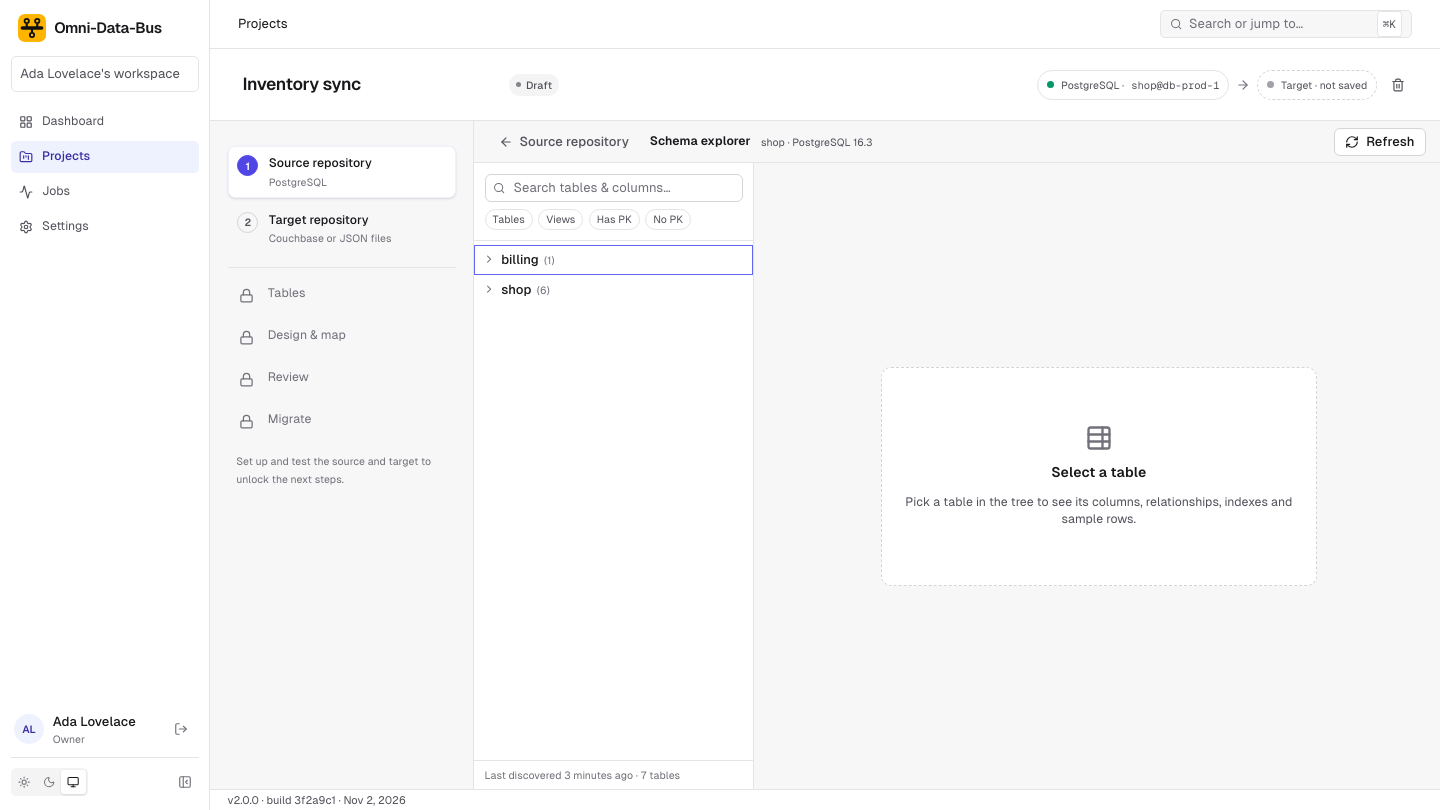
it: SchemaExplorerPage › selecting in the tree opens the table; a missing selection falls back to the picker
Expected: the heading "Select a table" is shown, [1051,462,1146,483]
Expected: the text "Last discovered 3 minutes ago · 7 tables" is shown, [474,760,753,789]
What coordinates should you click on to do the following:
click the list item "shop (6)"
I would click on:
 (516, 289)
Its box is [482,282,550,296].
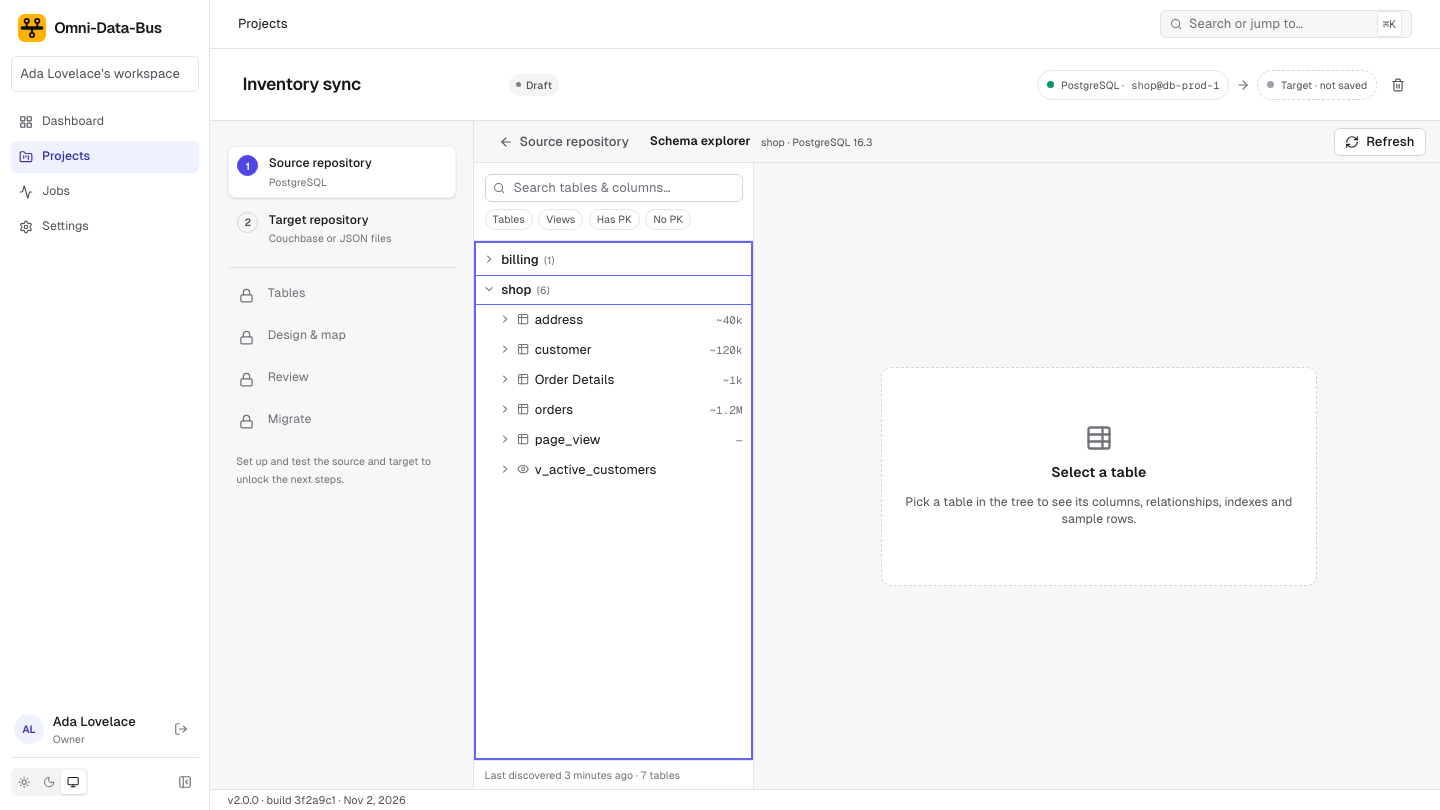
What coordinates should you click on to do the following:
click the list item "orders ~1.2M"
I would click on:
 (554, 409)
Its box is [498,402,742,416].
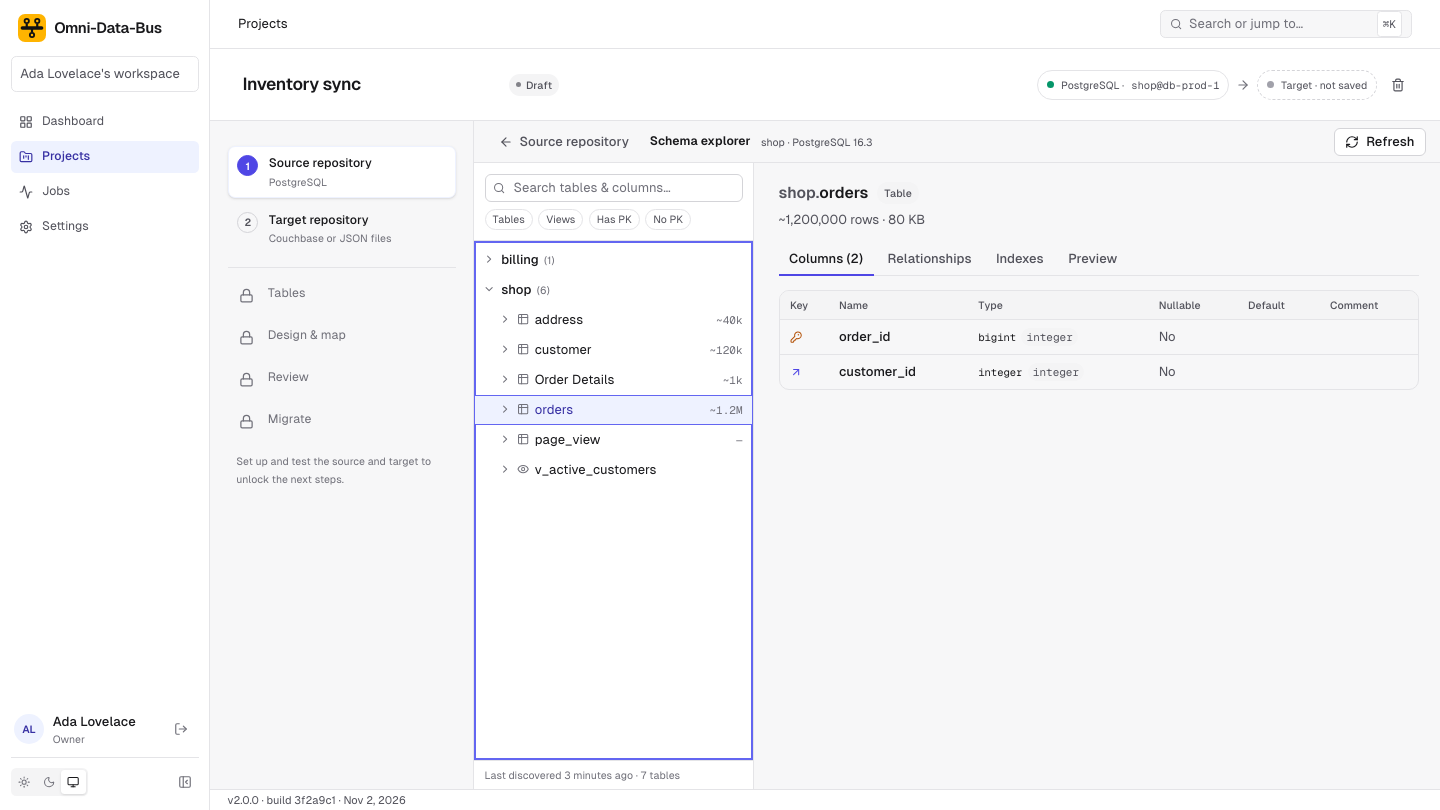
Expected: the heading "shop.orders" is shown, [778,180,868,205]
# A neighbour in the Relationships tab navigates too.
What coordinates should you click on to do the following:
click the tab "Relationships"
I would click on:
 (930, 260)
Its box is [877,244,982,276].
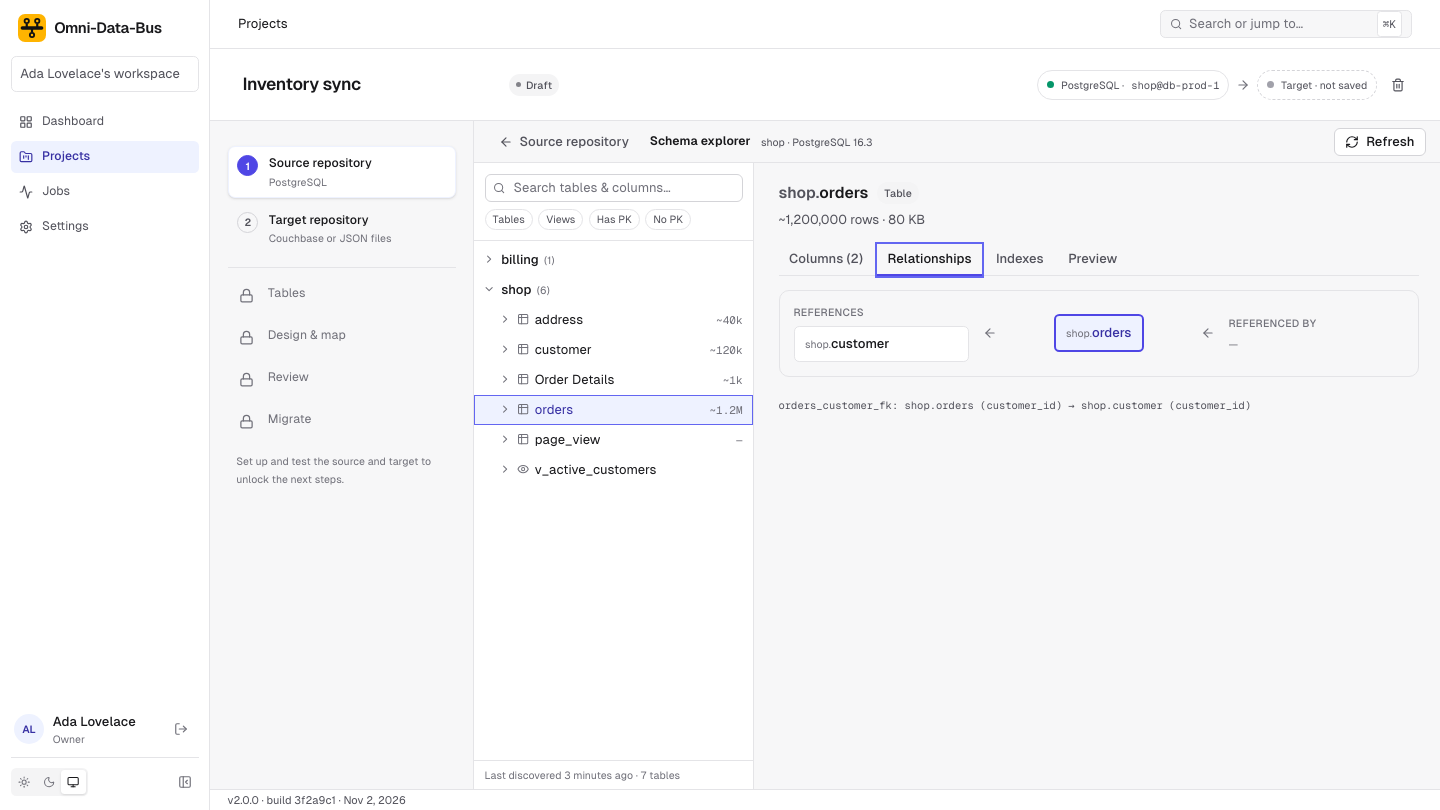
What coordinates should you click on to do the following:
click the button with aria-label "Open shop.customer"
I would click on:
 (881, 344)
Its box is [794,326,969,362].
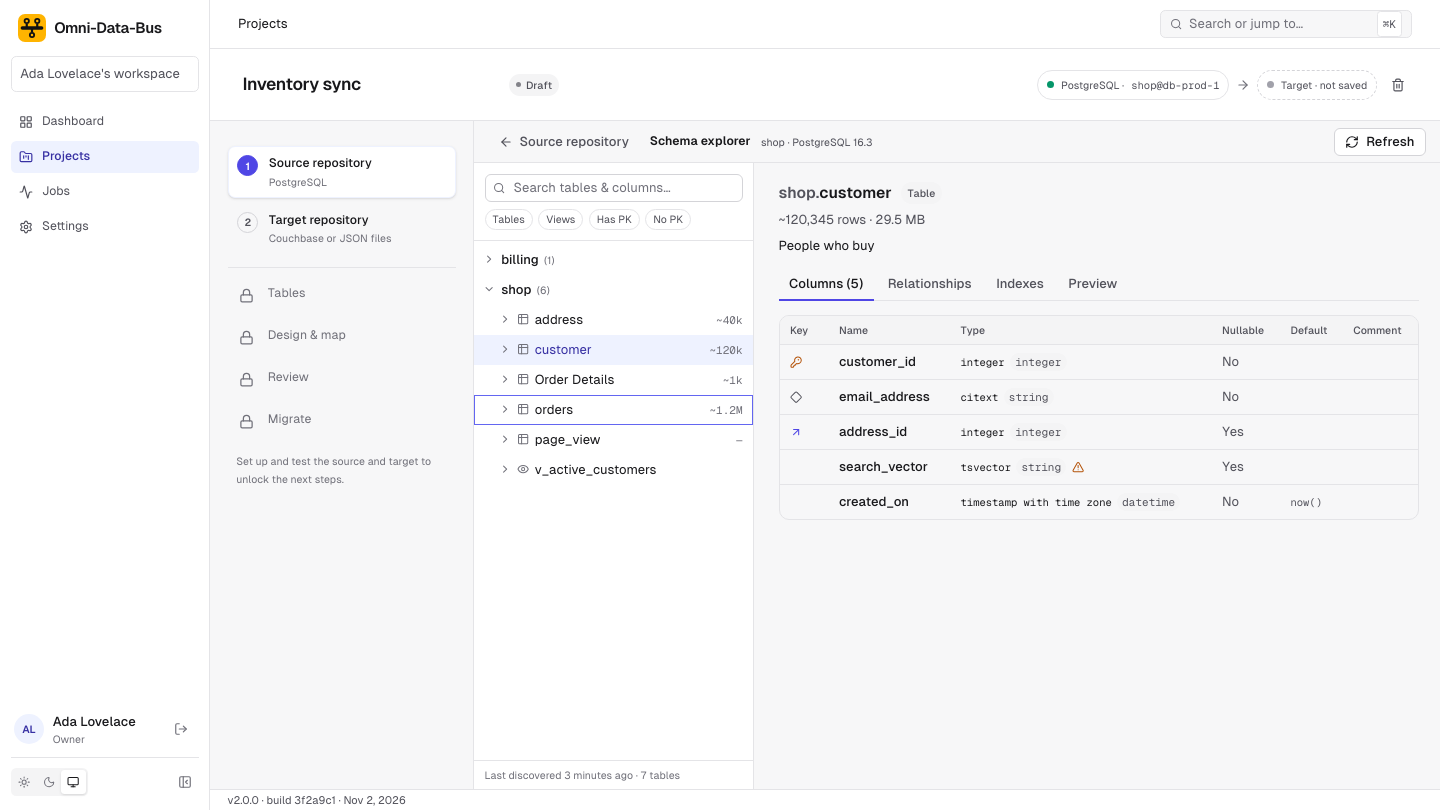
Expected: the heading "shop.customer" is shown, [778,180,892,205]
